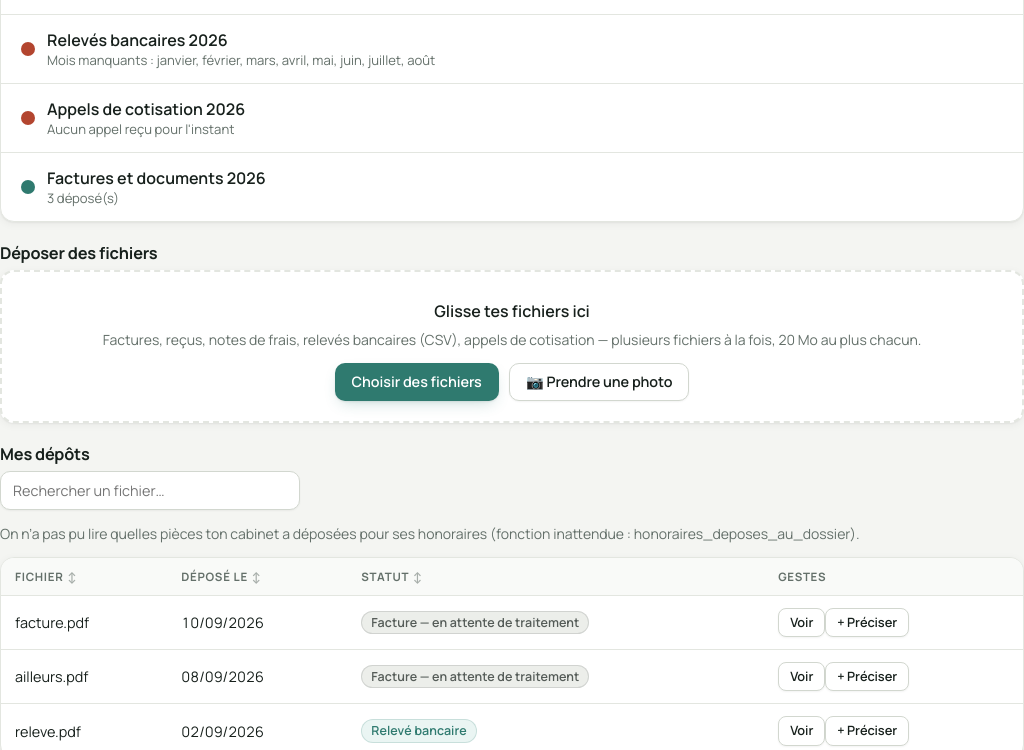
Test case: « Voir » dans « Mes pièces » › un fichier que le stockage ne signe pas, ou une fenêtre bloquée, se disent au client ; le geste suivant efface la phrase
The image size is (1024, 750).
(page scrolled)
Step 1. Click the button "Voir" in the row of "facture.pdf" → [802, 622], box [778, 608, 825, 637]
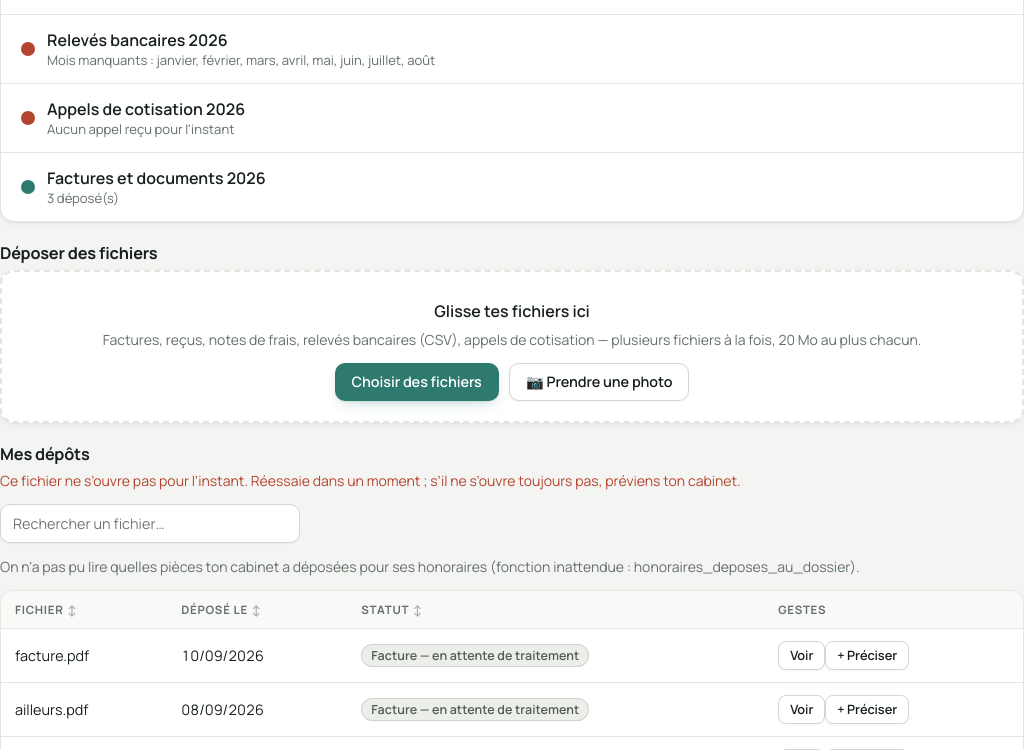
Check: the message shows "Ce fichier ne s’ouvre pas pour l’instant. Réessaie dans un moment ; s’il ne s’ouvre toujours pas, préviens ton cabinet.", box [0, 471, 741, 490]
Step 2. Click the button "Voir" in the row of "facture.pdf" → [802, 655], box [778, 641, 825, 670]
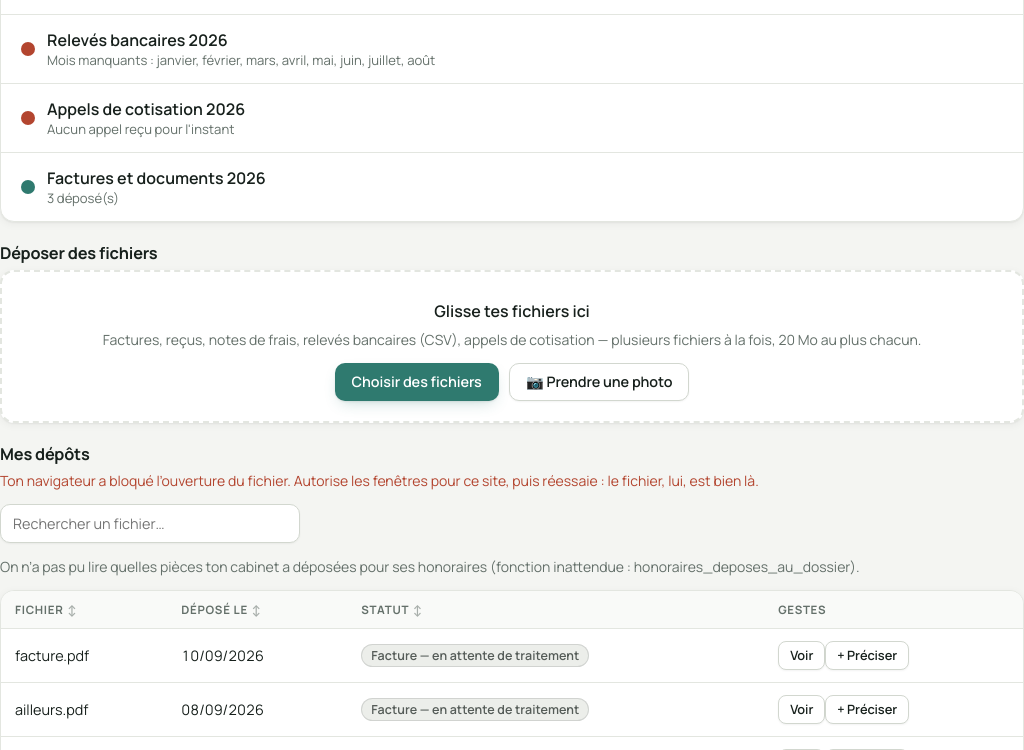
Check: the message shows "Ton navigateur a bloqué l’ouverture du fichier. Autorise les fenêtres pour ce site, puis réessaie : le fichier, lui, est bien là.", box [0, 471, 759, 490]
Step 3. Click the button "Voir" in the row of "facture.pdf" → [802, 655], box [778, 641, 825, 670]
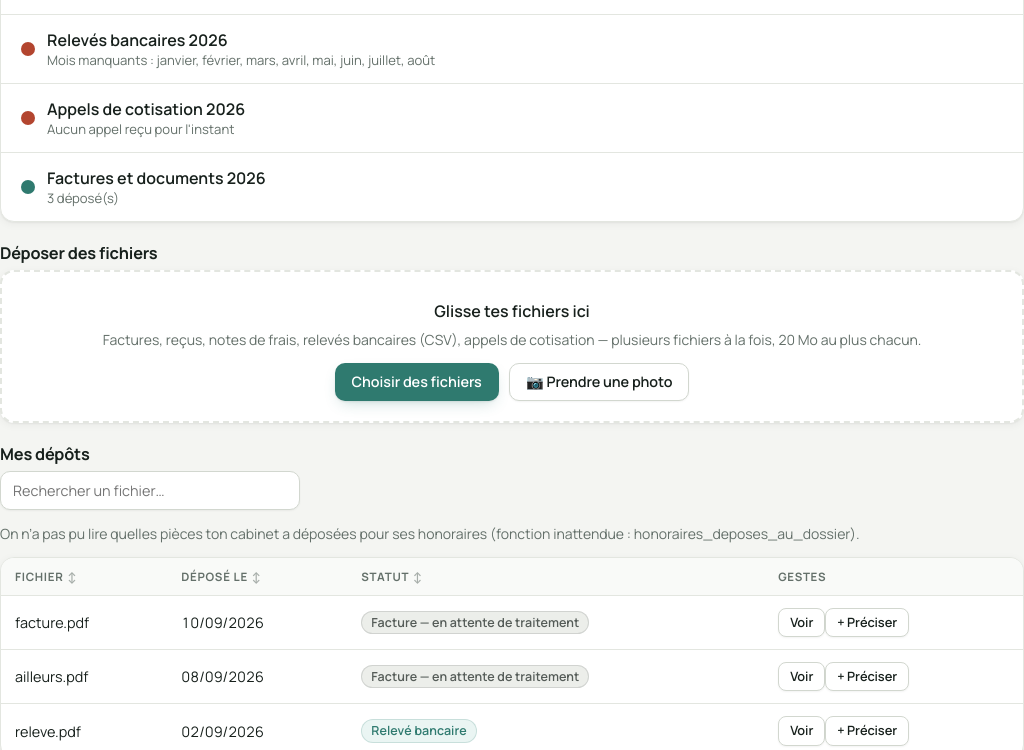
Check: the message is gone
